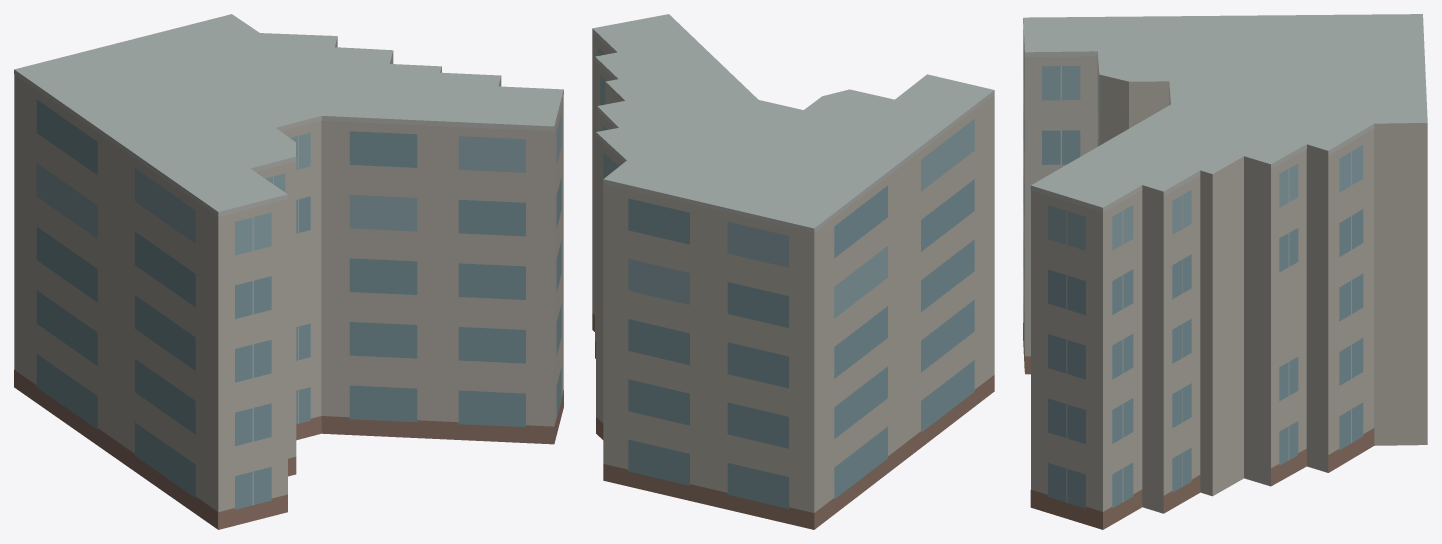
File: survey-upis-32639541.glb
3 views of the same model, side by side, from view 1: azimuth 30°, elevation 25°; view 2: azimuth 150°, elevation 25°; view 3: azimuth 270°, elevation 25° (orthographic). The views are drawn at different scales.
Visible parts, largest first — view 1: survey-upis-32639541.tmp; view 2: survey-upis-32639541.tmp; view 3: survey-upis-32639541.tmp.
Part boxes in pixels (box(x1,y1,x2,y2)): survey-upis-32639541.tmp: box(14, 14, 563, 529); survey-upis-32639541.tmp: box(592, 14, 994, 529); survey-upis-32639541.tmp: box(1023, 14, 1427, 529).
Bounding box in the file's own units: 20.65 × 16 × 18.22.
